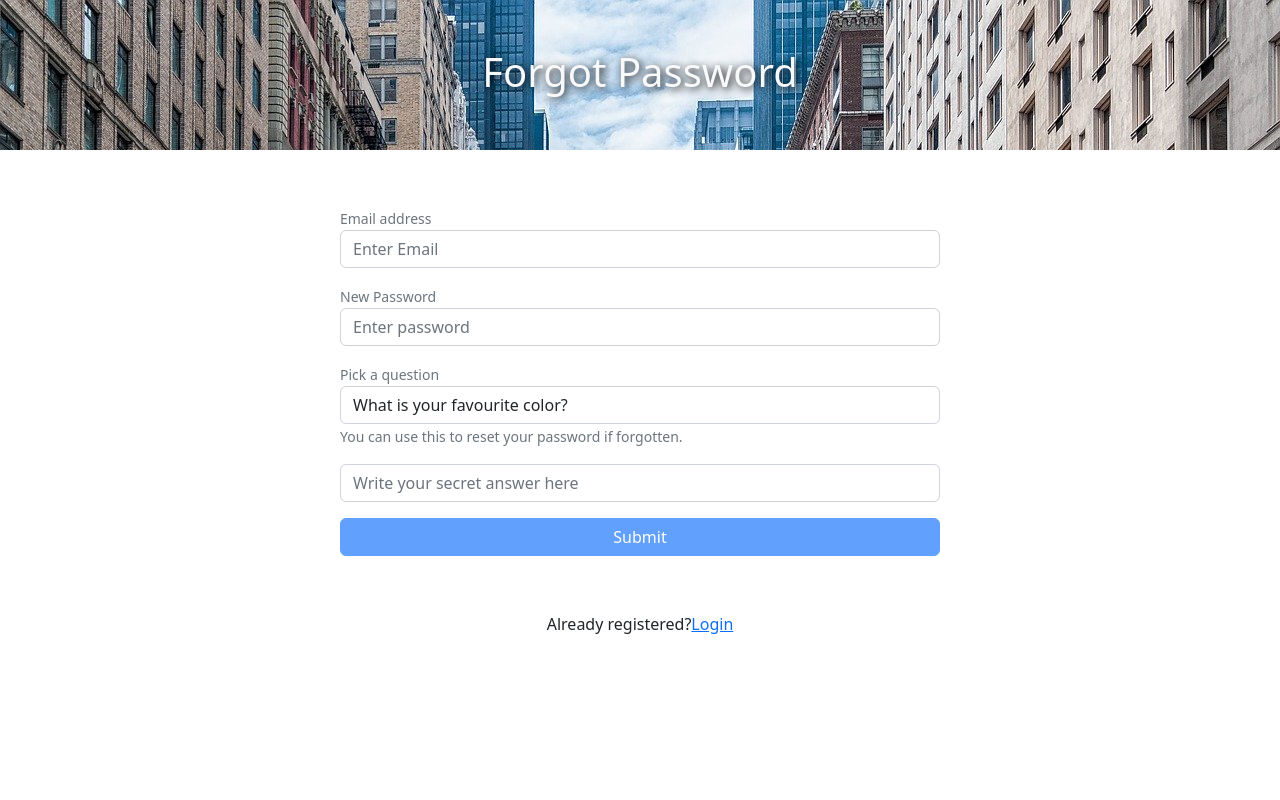
Test: Forgot password Page › Interactions › enables button when email and password inputs are filled
Type "user@mail.com" into the field with placeholder "Enter Email" at (640, 249), box [340, 230, 940, 268]
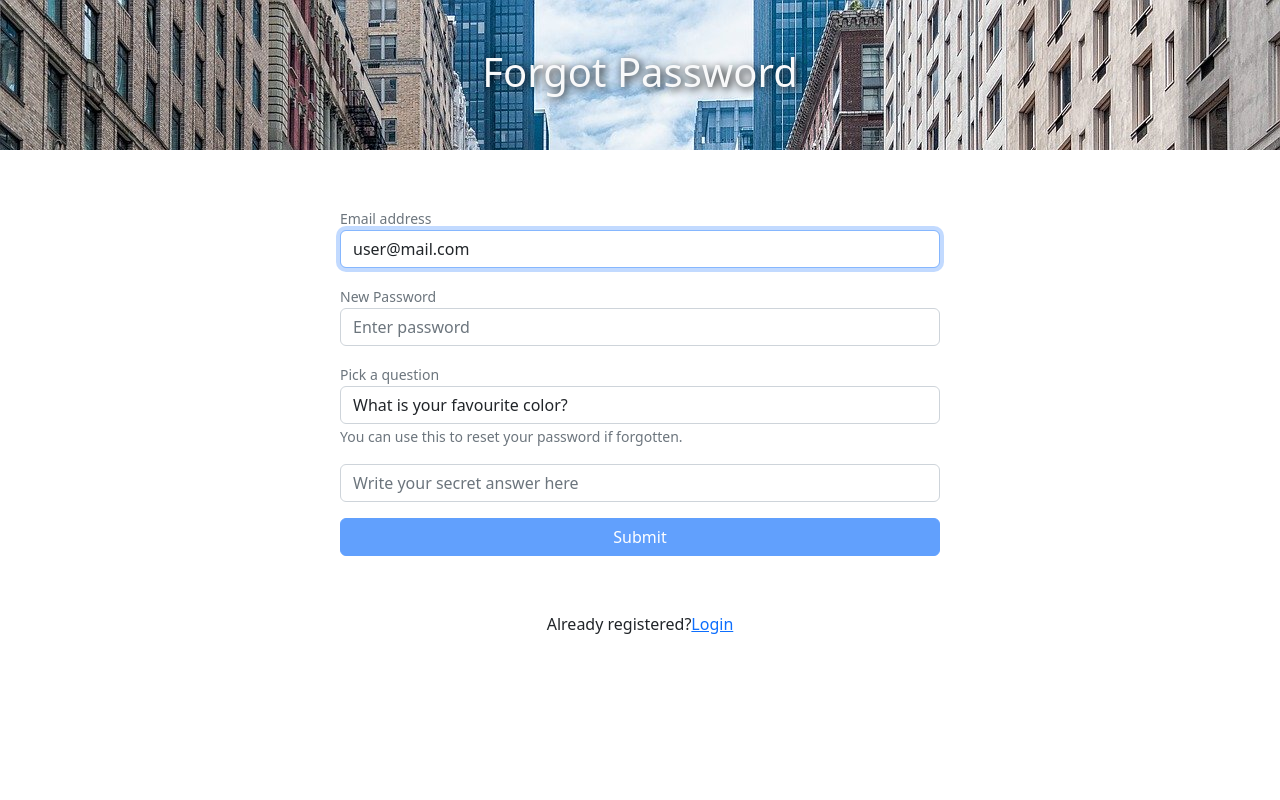
Type "123456" into the password field with placeholder "Enter password" at (640, 327), box [340, 308, 940, 346]
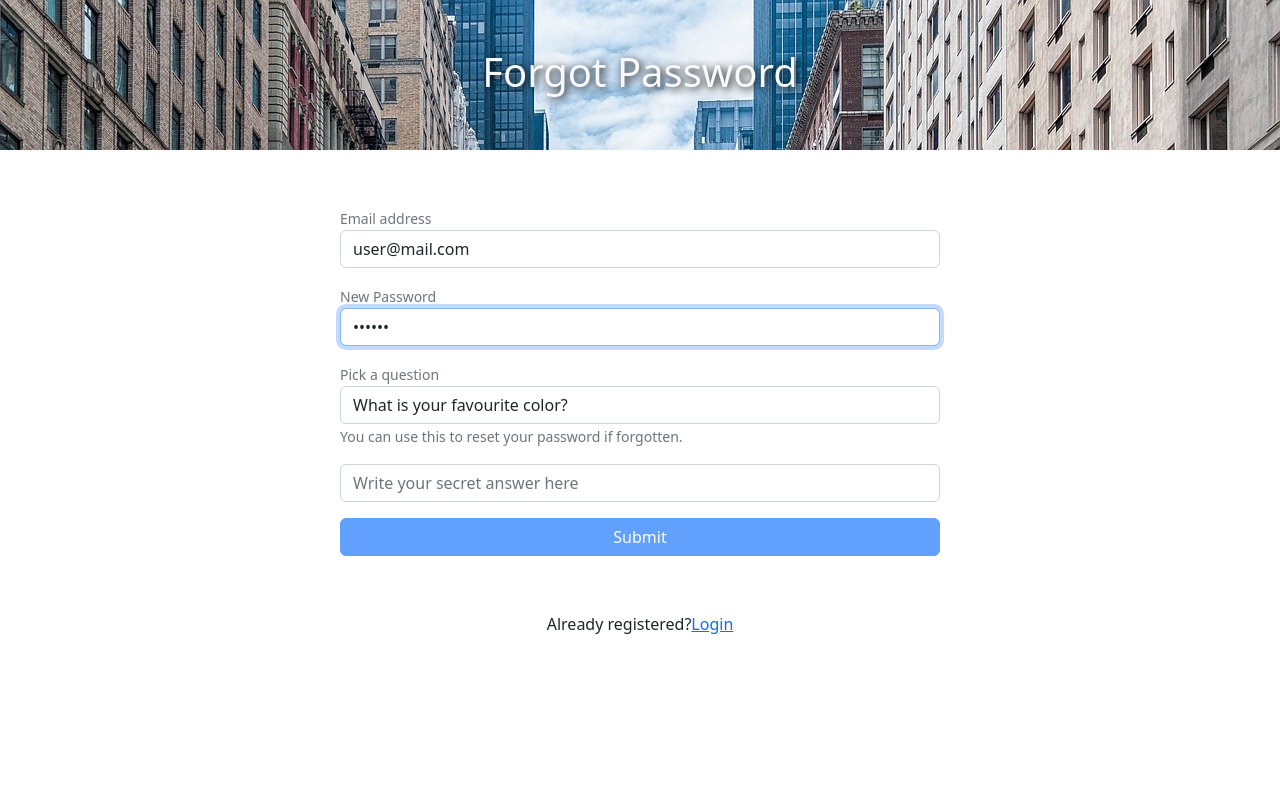
Type "red" into the field with placeholder "Write your secret answer here" at (640, 483), box [340, 464, 940, 502]
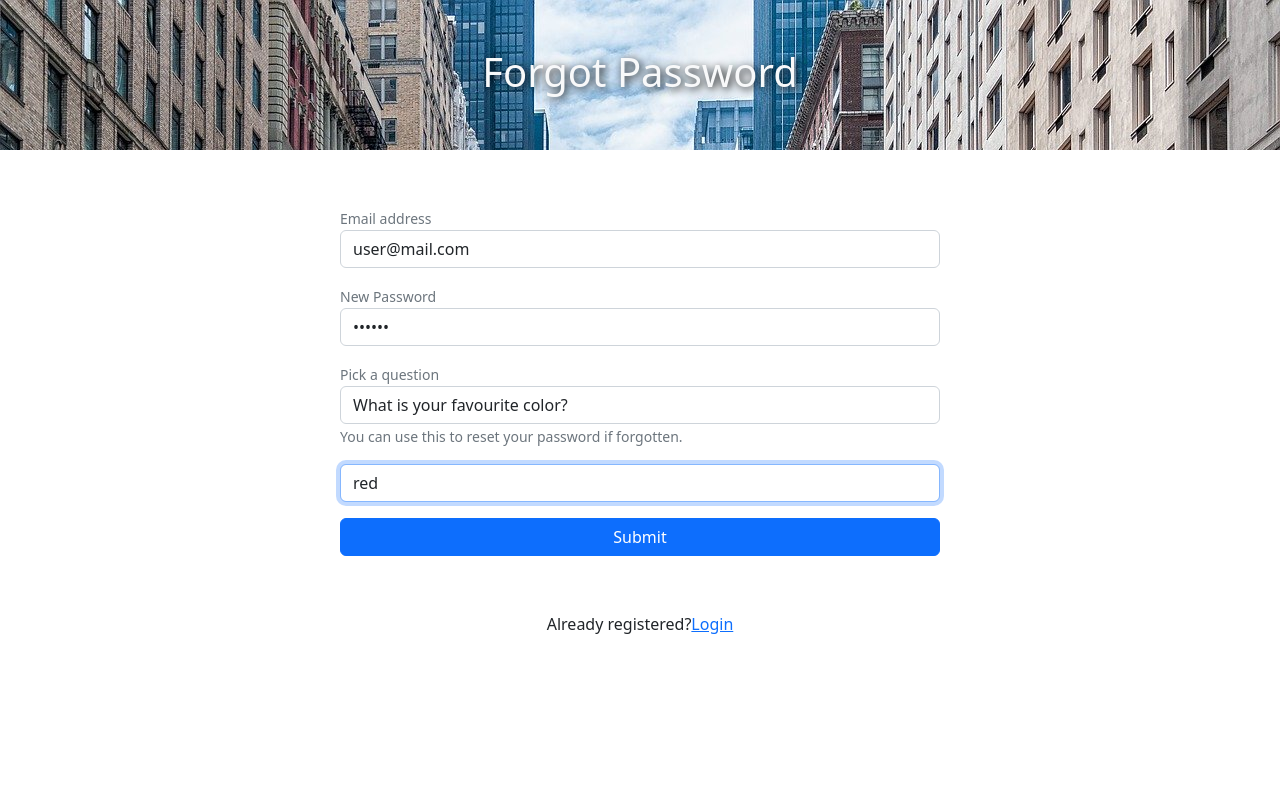
Check: the button "Submit" is enabled, box [340, 518, 940, 556]
